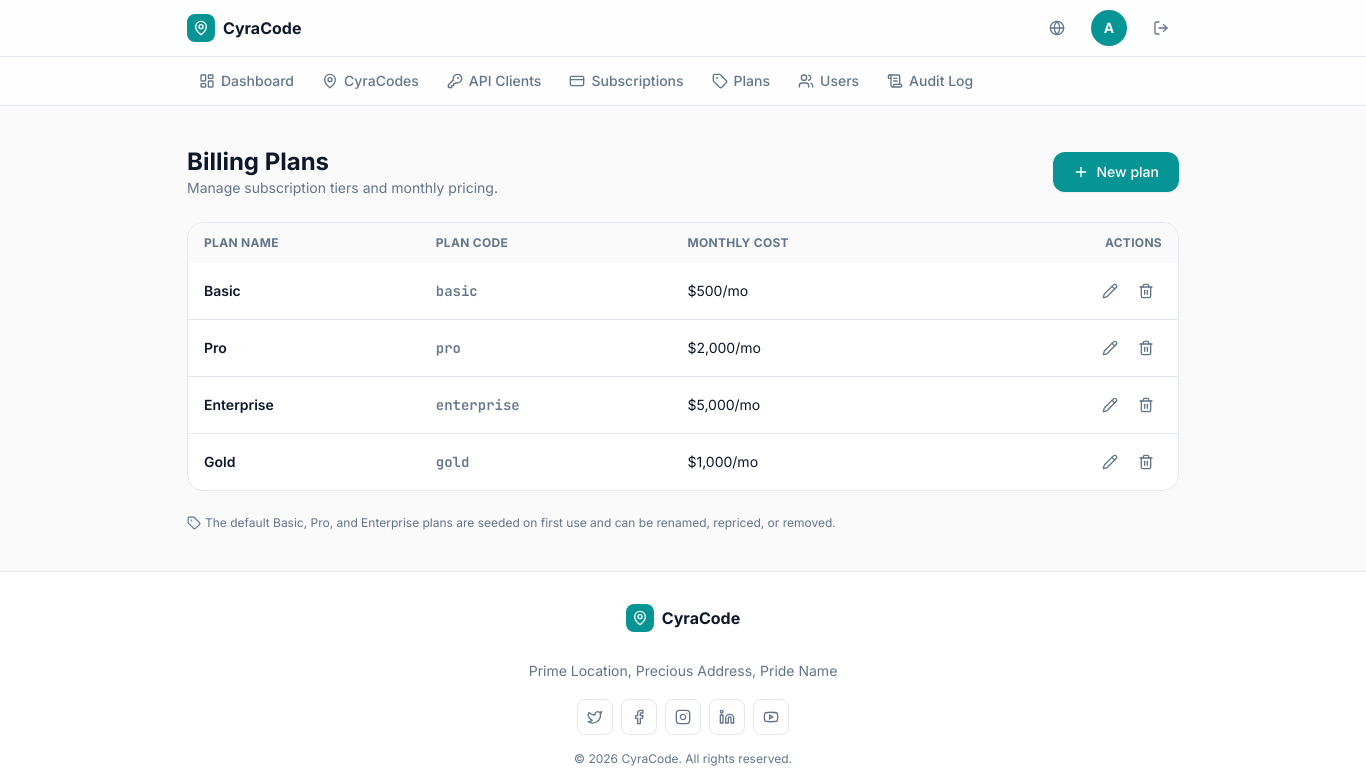
Test case: AdminPlans › deletes an unused plan after confirmation
Check: the text "Gold" is shown, box [188,434,420,490]
What coordinates should you click on to do the following:
click the button named "delete gold"
I would click on:
 (1146, 462)
Its box is [1130,446,1162,478].
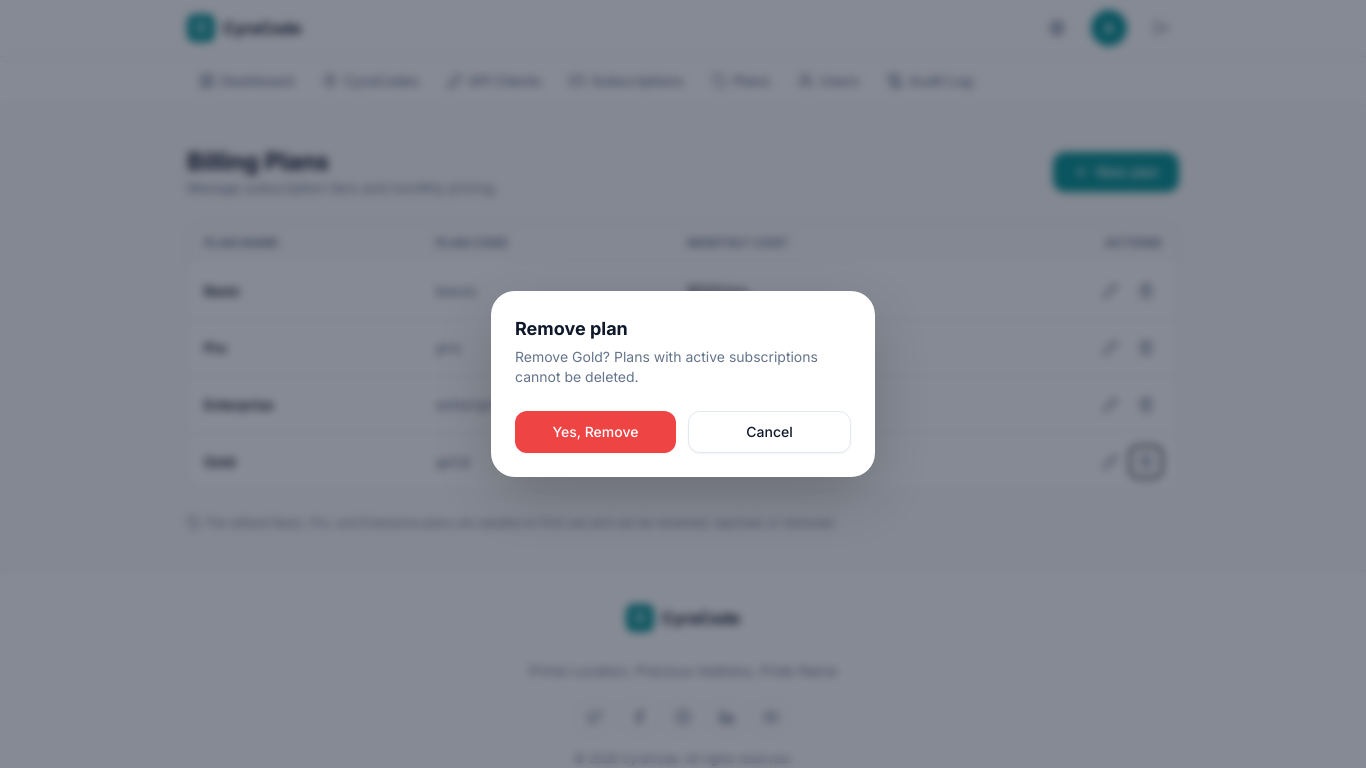
Check: the heading "Remove plan" is shown, box [515,318,628,339]
What coordinates should you click on to do the following:
click the button "Yes, Remove"
I would click on:
 (596, 432)
Its box is [515,411,676,453].
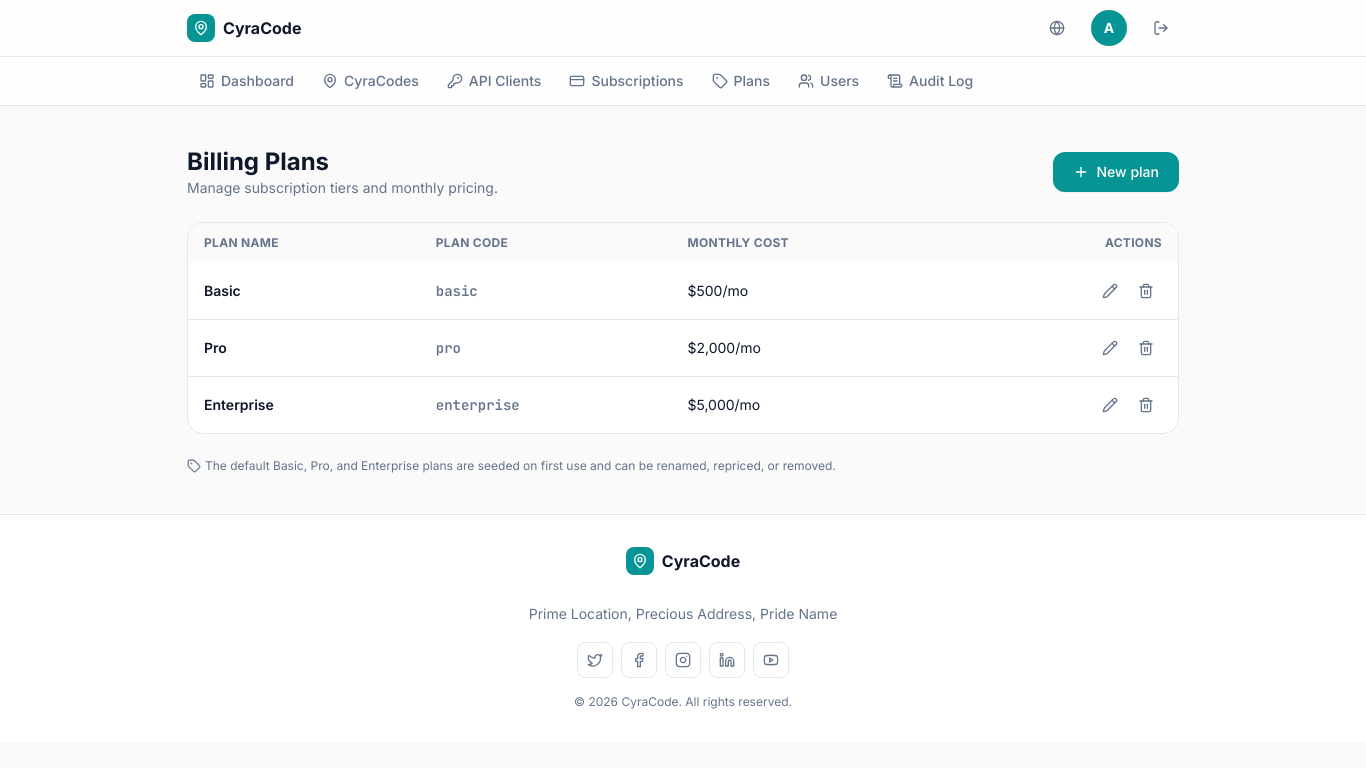
Check: the text "$1,000/mo" is gone
